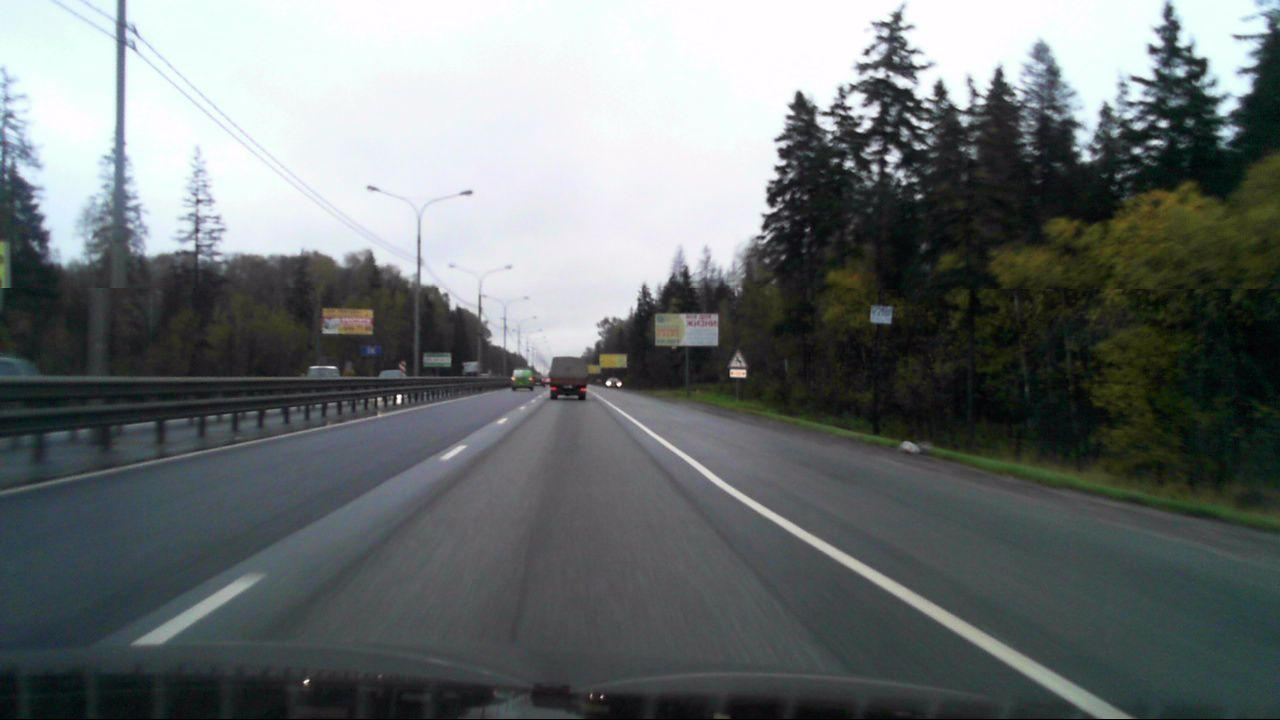1_27: (727, 348, 748, 369)
8_2_1: (728, 370, 748, 378)
